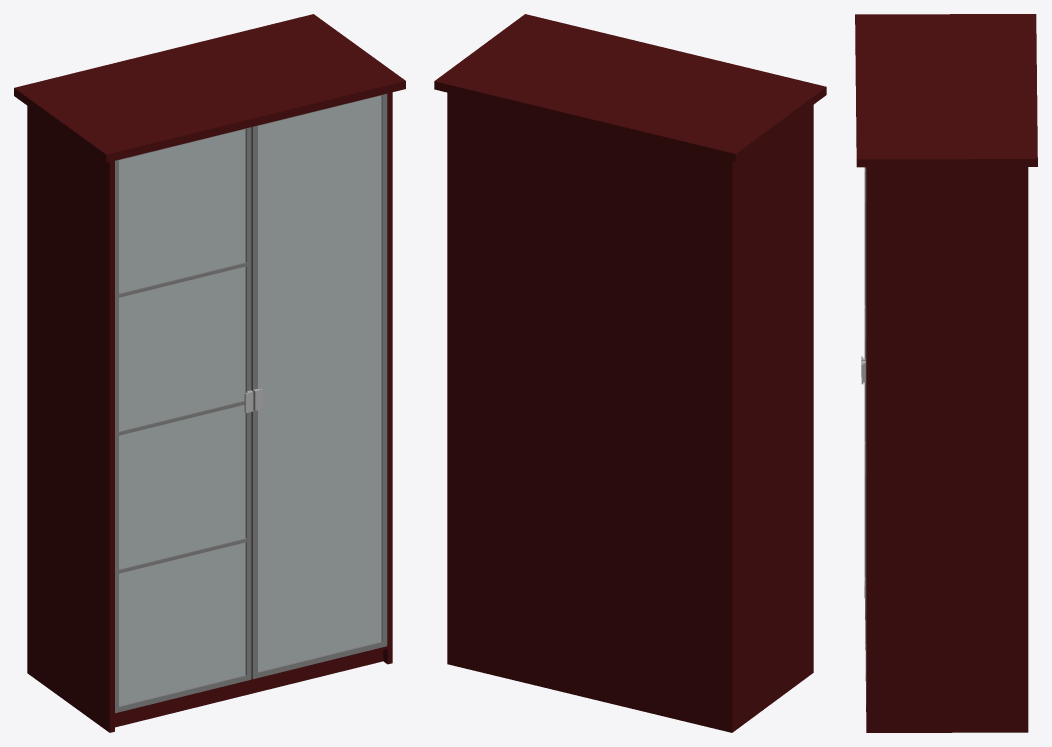
File: IKEA-Hopen_Wardrobe-3D.obj
3 renders of one model, left to right at view 1: azimuth 30°, elevation 25°; view 2: azimuth 150°, elevation 25°; view 3: azimuth 270°, elevation 25°, orthographic.
Parts seen in each view (by area): view 1: Layer_0; view 2: Layer_0; view 3: Layer_0.
Boxes of the visible parts, <box> form: Layer_0: <box>14,14,405,732</box>; Layer_0: <box>434,14,826,732</box>; Layer_0: <box>855,14,1037,732</box>.
Bounding box in the file's own units: 1274 × 2360 × 677.
